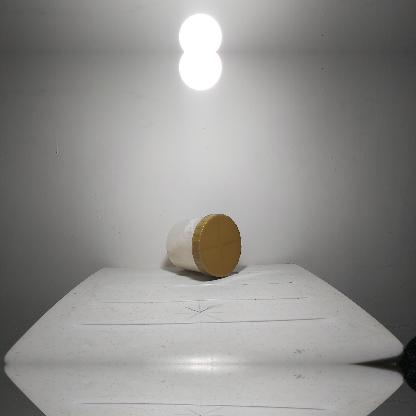Lady-s-Choice: (166, 212, 240, 278)
